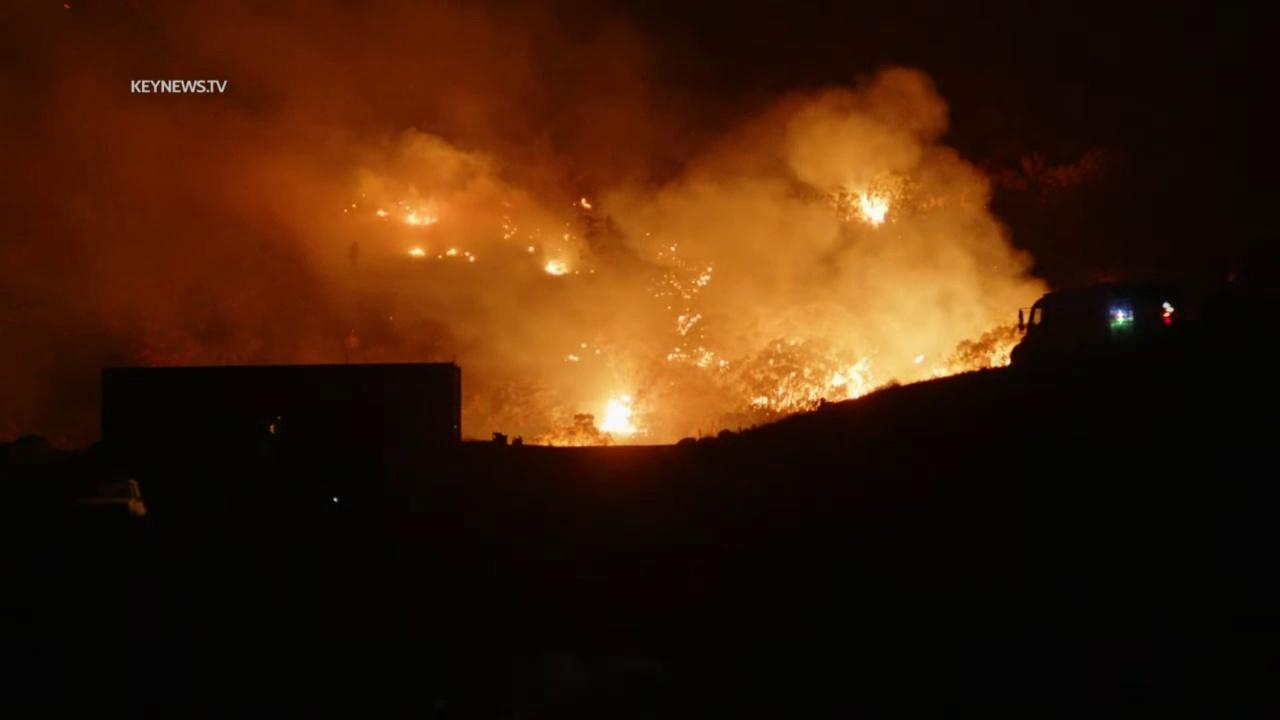fire: (803, 355, 880, 414), (596, 393, 650, 445), (665, 344, 732, 371), (854, 187, 890, 229), (774, 371, 803, 416), (673, 305, 703, 337), (404, 204, 440, 226), (922, 363, 949, 384), (690, 266, 715, 288), (544, 259, 570, 277), (406, 245, 427, 259), (565, 351, 583, 364), (750, 396, 769, 408), (464, 248, 478, 262), (913, 351, 926, 364), (375, 208, 390, 218), (580, 197, 592, 209), (446, 245, 458, 256), (527, 245, 537, 254), (581, 340, 590, 349), (562, 231, 570, 241), (669, 244, 677, 253), (503, 232, 511, 241), (511, 227, 518, 237), (595, 348, 602, 356), (501, 224, 508, 230)
smoke: (0, 0, 1058, 449)
